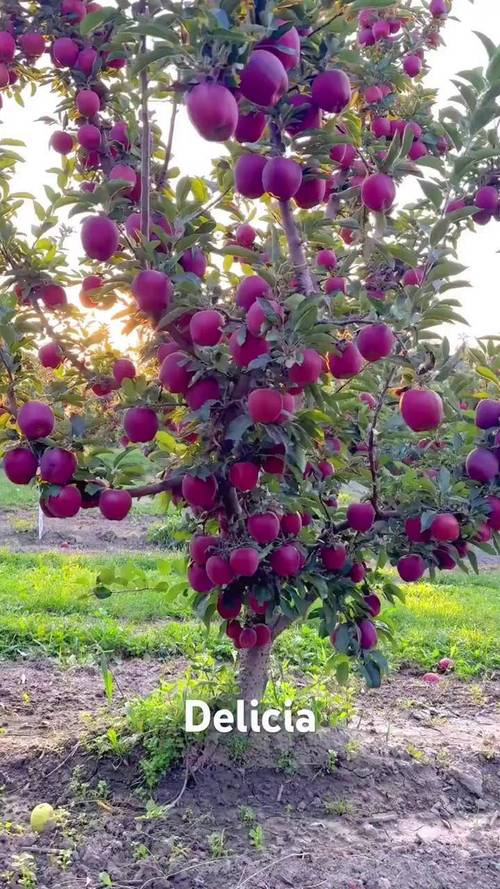ripe: (68, 211, 132, 270), (181, 82, 238, 145), (249, 14, 311, 70), (395, 372, 444, 442), (122, 265, 179, 320), (227, 48, 286, 100), (265, 345, 322, 395), (32, 435, 79, 488), (154, 349, 202, 399), (238, 374, 286, 422), (243, 288, 286, 340), (14, 397, 61, 444), (311, 66, 358, 111), (352, 166, 399, 211), (354, 315, 397, 363), (263, 152, 302, 204), (118, 395, 161, 442), (324, 329, 358, 388), (179, 458, 220, 506), (186, 304, 229, 349), (227, 147, 265, 197), (95, 481, 138, 522), (243, 503, 283, 547), (456, 442, 500, 479), (342, 497, 383, 535), (222, 451, 259, 488), (476, 386, 500, 433)
